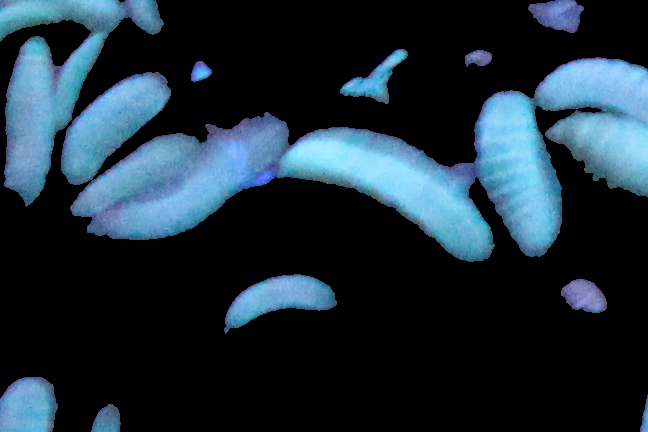larvae: (280, 136, 490, 264), (467, 88, 561, 258), (96, 139, 254, 235), (60, 73, 173, 184), (71, 136, 197, 215), (5, 38, 56, 206), (546, 115, 648, 192), (535, 55, 648, 114), (223, 273, 335, 330), (53, 34, 105, 127)
